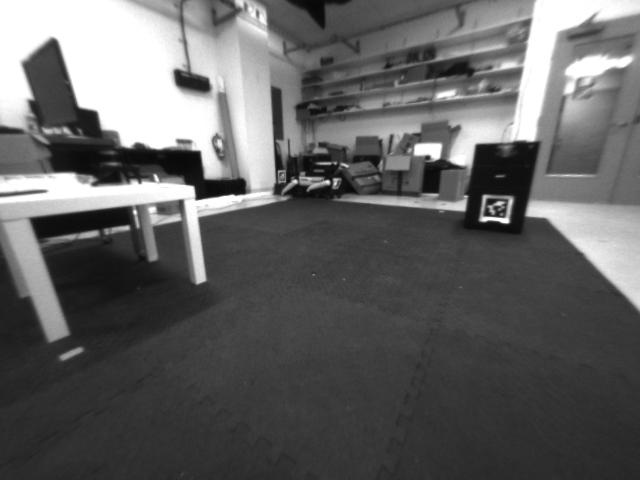door_handle: (605, 118, 629, 134)
drawer: (492, 141, 518, 166)
